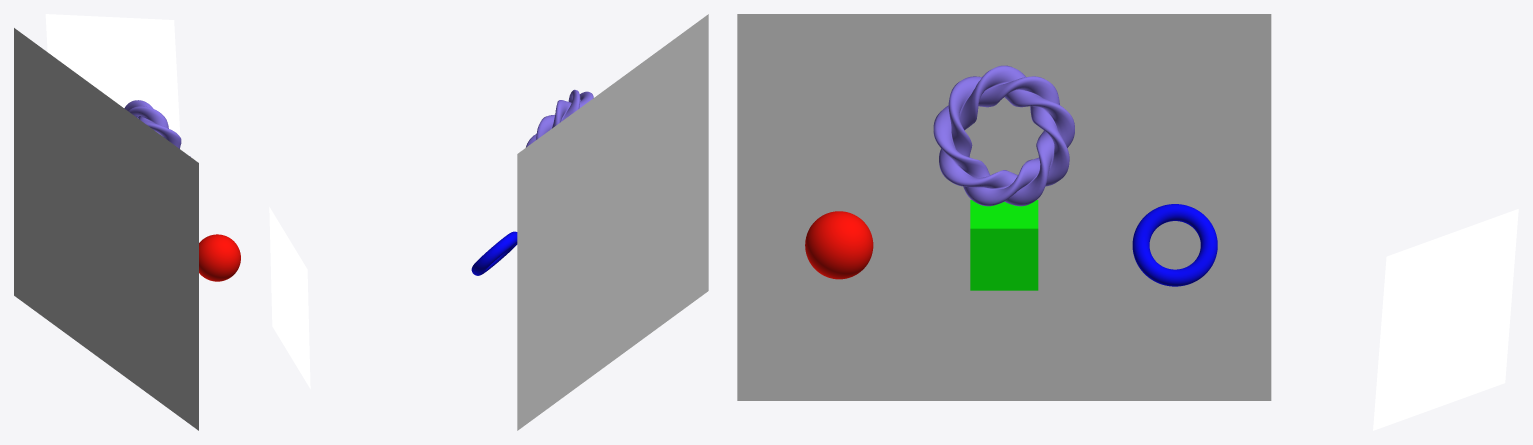
The model's file is MaterialTest.gltf.
3 renders of one model, left to right at view 1: azimuth 30°, elevation 25°; view 2: azimuth 150°, elevation 25°; view 3: azimuth 270°, elevation 25°, orthographic. The views are drawn at different scales.
Parts seen in each view (by area): view 1: Plane, Plane.001, Icosphere, XYZ Function; view 2: Plane, Plane.001, XYZ Function, Torus; view 3: Plane, Plane.001, XYZ Function, Cube, Icosphere, Torus.
Part boxes in pixels (left/top/right/bottom): Plane: left=14, top=28, right=198, bottom=430; Plane.001: left=45, top=14, right=180, bottom=136; Icosphere: left=199, top=234, right=240, bottom=281; XYZ Function: left=124, top=100, right=190, bottom=156; Plane: left=517, top=14, right=708, bottom=430; Plane.001: left=269, top=207, right=310, bottom=388; XYZ Function: left=526, top=89, right=593, bottom=147; Torus: left=471, top=231, right=517, bottom=275; Plane: left=737, top=14, right=1271, bottom=400; Plane.001: left=1373, top=209, right=1518, bottom=430; XYZ Function: left=933, top=65, right=1074, bottom=206; Cube: left=970, top=200, right=1038, bottom=290; Icosphere: left=805, top=211, right=873, bottom=279; Torus: left=1132, top=204, right=1217, bottom=286.
Bounding box in the file's own units: 9.87 × 12.52 × 22.92.
